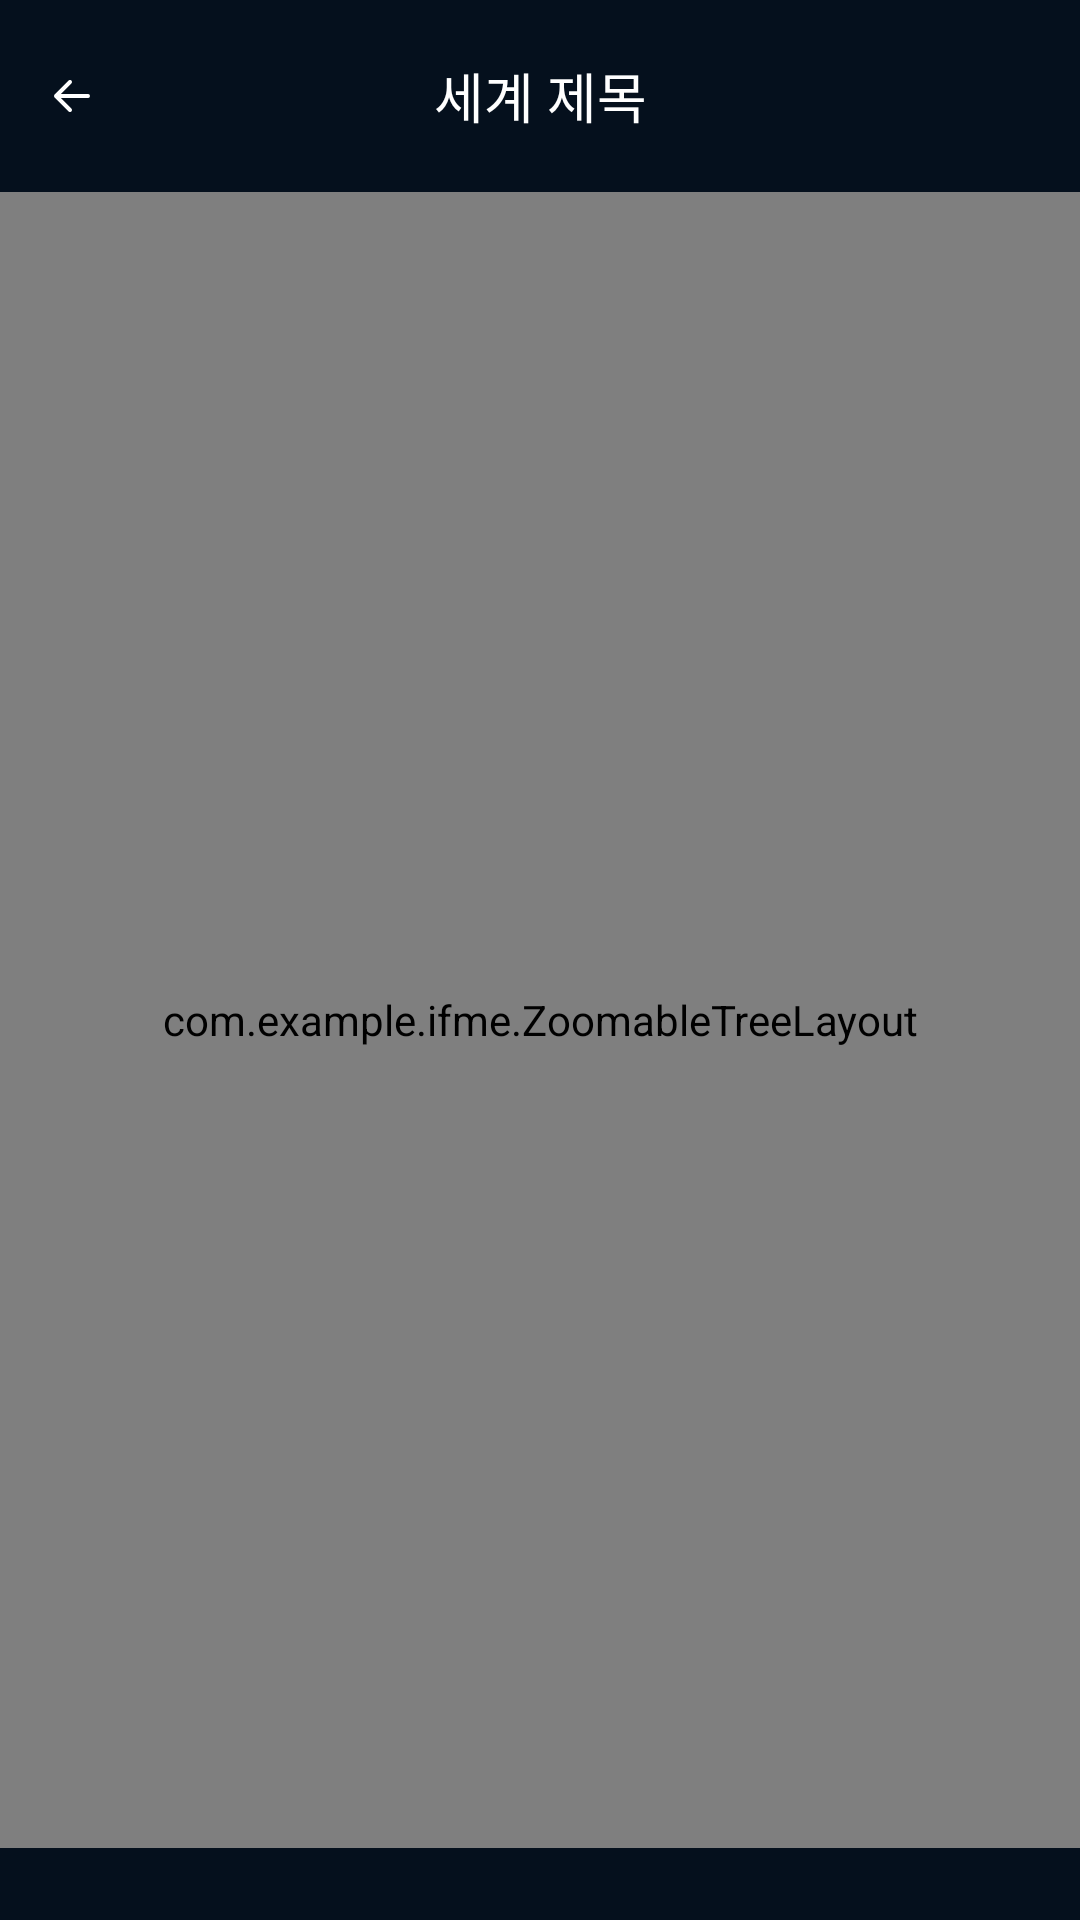

Screen size 1080px×1920px. Icon name, then its box in pixels as box(x1, y1, x2, y2):
뒤로가기: box(54, 80, 90, 112)
